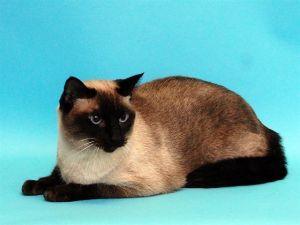siamese: (55, 65, 150, 164)
